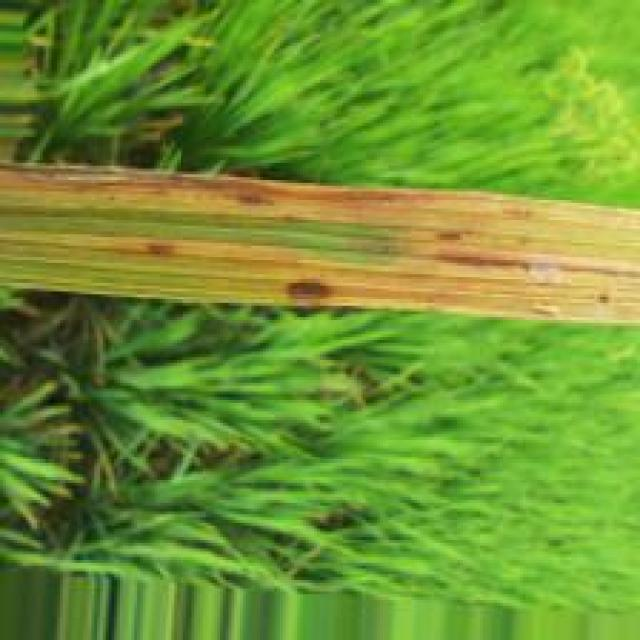Rice Tungro: (1, 158, 640, 325)
